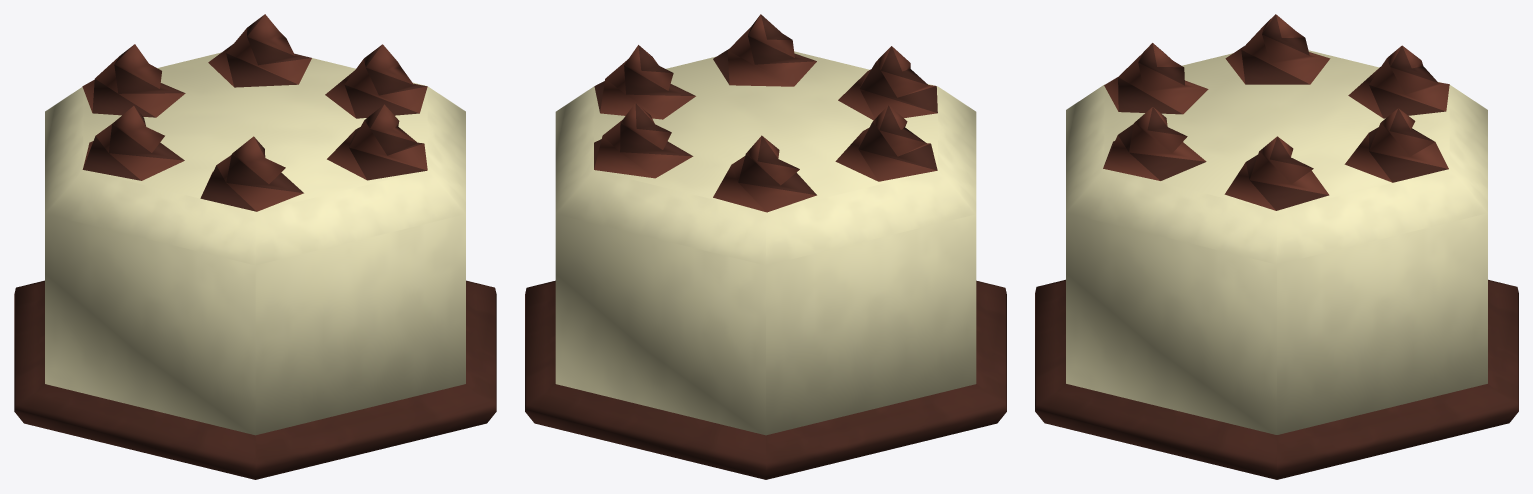
Rendered from Cake_B_09.FBX.
3 renders of one model, left to right at view 1: azimuth 30°, elevation 25°; view 2: azimuth 150°, elevation 25°; view 3: azimuth 270°, elevation 25°, orthographic.
Visible parts, largest first — view 1: Cake_2; view 2: Cake_2; view 3: Cake_2.
Part boxes in pixels (left/top/right/bottom): Cake_2: left=14, top=14, right=496, bottom=479; Cake_2: left=525, top=14, right=1006, bottom=479; Cake_2: left=1035, top=14, right=1518, bottom=479.
Size of the model in its own units: 117 by 67.83 by 101.
